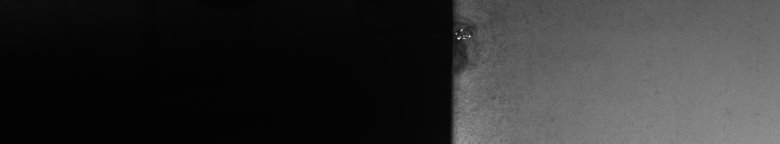hb: (464, 12, 484, 72)
